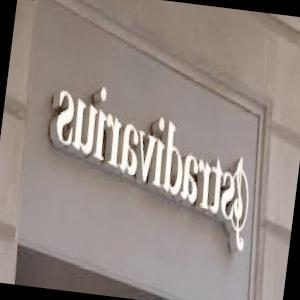stradivarius: (12, 67, 284, 261)
